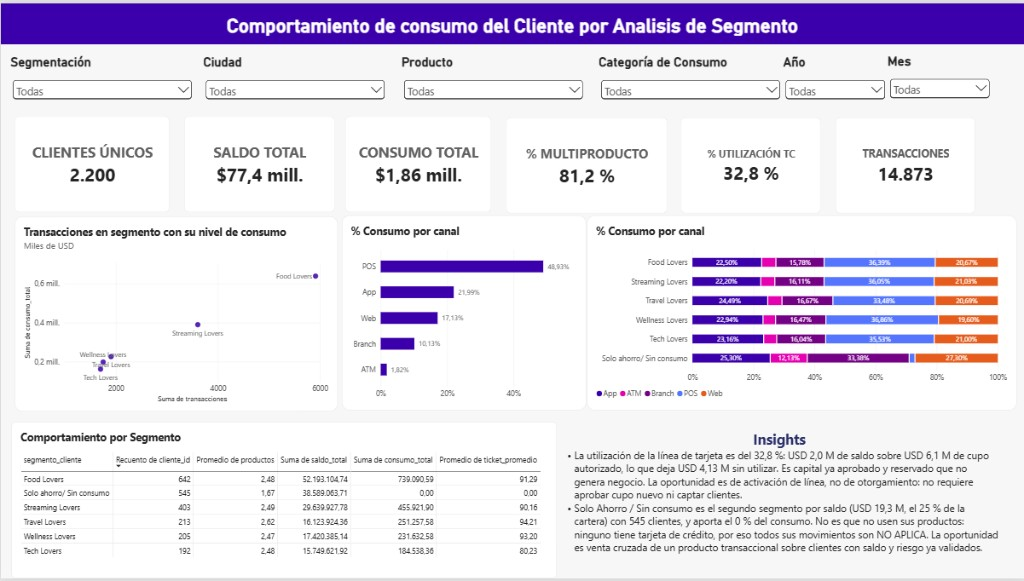

What the dashboard file says about the page in this screenshot:
{"tool":"powerbi","page":{"name":"Comportamiento ","canvas":[1920,1080],"ordinal":2},"visuals":[{"type":"cardVisual","fields":{"Data":["Medidas.Clientes Únicos"]},"box":[20,206,302,192],"z":0},{"type":"cardVisual","title":"CONSUMO TOTAL","fields":{"Data":["Medidas.Saldo Total"]},"box":[338,206,294,192],"z":1000},{"type":"cardVisual","title":"CONSUMO TOTAL","fields":{"Data":["Medidas.% Clientes Multiproducto"]},"box":[942,208,314,192],"z":2000},{"type":"cardVisual","title":"CONSUMO TOTAL","fields":{"Data":["Medidas.Consumo Total"]},"box":[640,206,286,192],"z":3000},{"type":"slicer","title":"Segmentación","fields":{"Values":["Segmentacion_cliente.segmento_cliente"]},"box":[17.5,95,345,87.5],"z":4000},{"type":"textbox","title":"Comportamiento de consumo del Cliente por Analisis de Segmento ","box":[0,0,1920,95],"z":5000},{"type":"slicer","title":"Ciudad","fields":{"Values":["Vista_Cliente.ciudad"]},"box":[380,95,345,87.5],"z":6000},{"type":"slicer","title":"Producto","fields":{"Values":["Base_Limpia.producto"]},"box":[752.5,95,345,87.5],"z":7000},{"type":"slicer","title":"Categoría de Consumo","fields":{"Values":["Base_Limpia.categoria_consumo"]},"box":[1122.5,95,345,87.5],"z":8000},{"type":"cardVisual","title":"CONSUMO TOTAL","fields":{"Data":["Medidas.% Utilización TC"]},"box":[1270,208,274,192],"z":9000},{"type":"scatterChart","title":"Transacciones en segmento con su nivel de consumo","fields":{"Category":["Segmentacion_final.segmento_cliente"],"X":["Sum(Segmentacion_final.transacciones)"],"Y":["Sum(Consumo.consumo_total)"]},"box":[26,400,606,366],"z":10000},{"type":"tableEx","title":"Comportamiento por Segmento","fields":{"Values":["Segmentacion_cliente.segmento_cliente","Segmentacion_cliente.cliente_id","Avg(Vista_Cliente.productos)","Sum(Vista_Cliente.saldo_total)","Sum(Vista_Cliente.consumo_total)","Avg(Vista_Cliente.ticket_promedio)"]},"box":[20,786.7,1023.3,293.3],"z":12000},{"type":"textbox","box":[1048,800,826,280],"z":13000},{"type":"cardVisual","title":"CONSUMO TOTAL","fields":{"Data":["Medidas.Transacciones"]},"box":[1560,208,274,192],"z":14000},{"type":"clusteredBarChart","title":"% Consumo por canal","fields":{"Category":["Base_Limpia.canal"],"Y":["Medidas.% Consumo por Canal"]},"box":[640,398,458,366],"z":15000},{"type":"hundredPercentStackedBarChart","title":"% Consumo por canal","fields":{"Category":["Segmentacion_cliente.segmento_cliente"],"Series":["Base_Limpia.canal"],"Y":["CountNonNull(Base_Limpia.cliente_id)"]},"box":[1100,398,806,366],"z":16000},{"type":"slicer","title":"Año","fields":{"Values":["Base_Limpia.fecha_movimiento.Variación.Jerarquía de fechas.Año"]},"box":[1468,96,196,88],"z":16001},{"type":"slicer","title":"Mes","fields":{"Values":["Base_Limpia.fecha_movimiento.Variación.Jerarquía de fechas.Mes"]},"box":[1664,94,196,88],"z":16002}]}

Visuals, with their boxes in screenshot pixels (x1, y1, x2, y2), scaled from the page's 1920x1080 canvas onto the 1024x581 screenshot:
cardVisual - Medidas.Clientes Únicos: pyautogui.locateOnScreen(11, 111, 172, 214)
"CONSUMO TOTAL" cardVisual: pyautogui.locateOnScreen(180, 111, 337, 214)
"CONSUMO TOTAL" cardVisual: pyautogui.locateOnScreen(502, 112, 670, 215)
"CONSUMO TOTAL" cardVisual: pyautogui.locateOnScreen(341, 111, 494, 214)
"Segmentación" slicer: pyautogui.locateOnScreen(9, 51, 193, 98)
"Comportamiento de consumo del Cliente por Analisis de Segmento " textbox: pyautogui.locateOnScreen(0, 0, 1023, 51)
"Ciudad" slicer: pyautogui.locateOnScreen(203, 51, 387, 98)
"Producto" slicer: pyautogui.locateOnScreen(401, 51, 585, 98)
"Categoría de Consumo" slicer: pyautogui.locateOnScreen(599, 51, 783, 98)
"CONSUMO TOTAL" cardVisual: pyautogui.locateOnScreen(677, 112, 823, 215)
"Transacciones en segmento con su nivel de consumo" scatterChart: pyautogui.locateOnScreen(14, 215, 337, 412)
"Comportamiento por Segmento" tableEx: pyautogui.locateOnScreen(11, 423, 556, 580)
textbox: pyautogui.locateOnScreen(559, 430, 999, 580)
"CONSUMO TOTAL" cardVisual: pyautogui.locateOnScreen(832, 112, 978, 215)
"% Consumo por canal" clusteredBarChart: pyautogui.locateOnScreen(341, 214, 586, 411)
"% Consumo por canal" hundredPercentStackedBarChart: pyautogui.locateOnScreen(587, 214, 1017, 411)
"Año" slicer: pyautogui.locateOnScreen(783, 52, 887, 99)
"Mes" slicer: pyautogui.locateOnScreen(887, 51, 992, 98)
